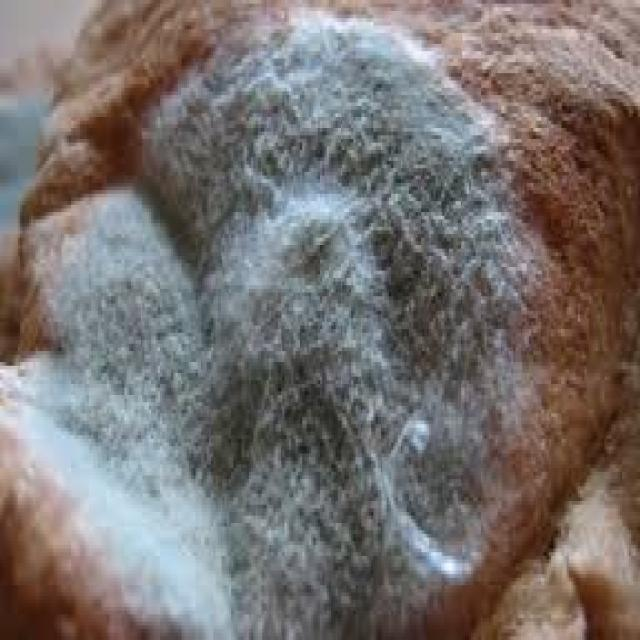food_waste: (0, 0, 638, 636)
